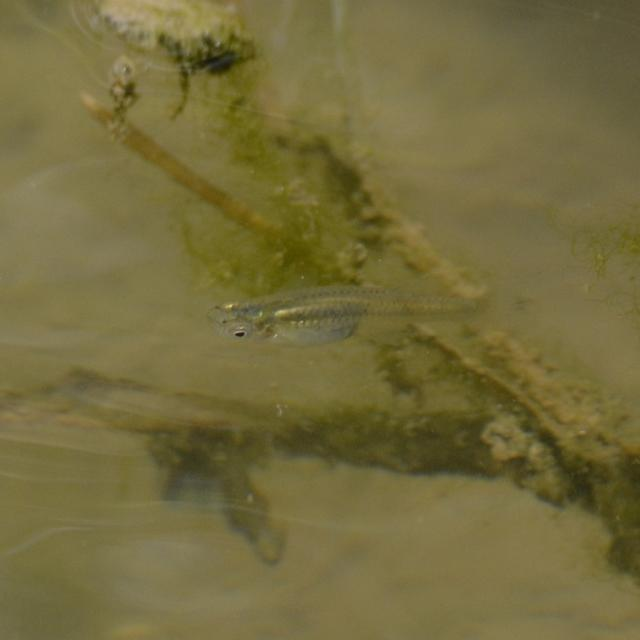Sivrisinek Baligi: (204, 270, 505, 360)
